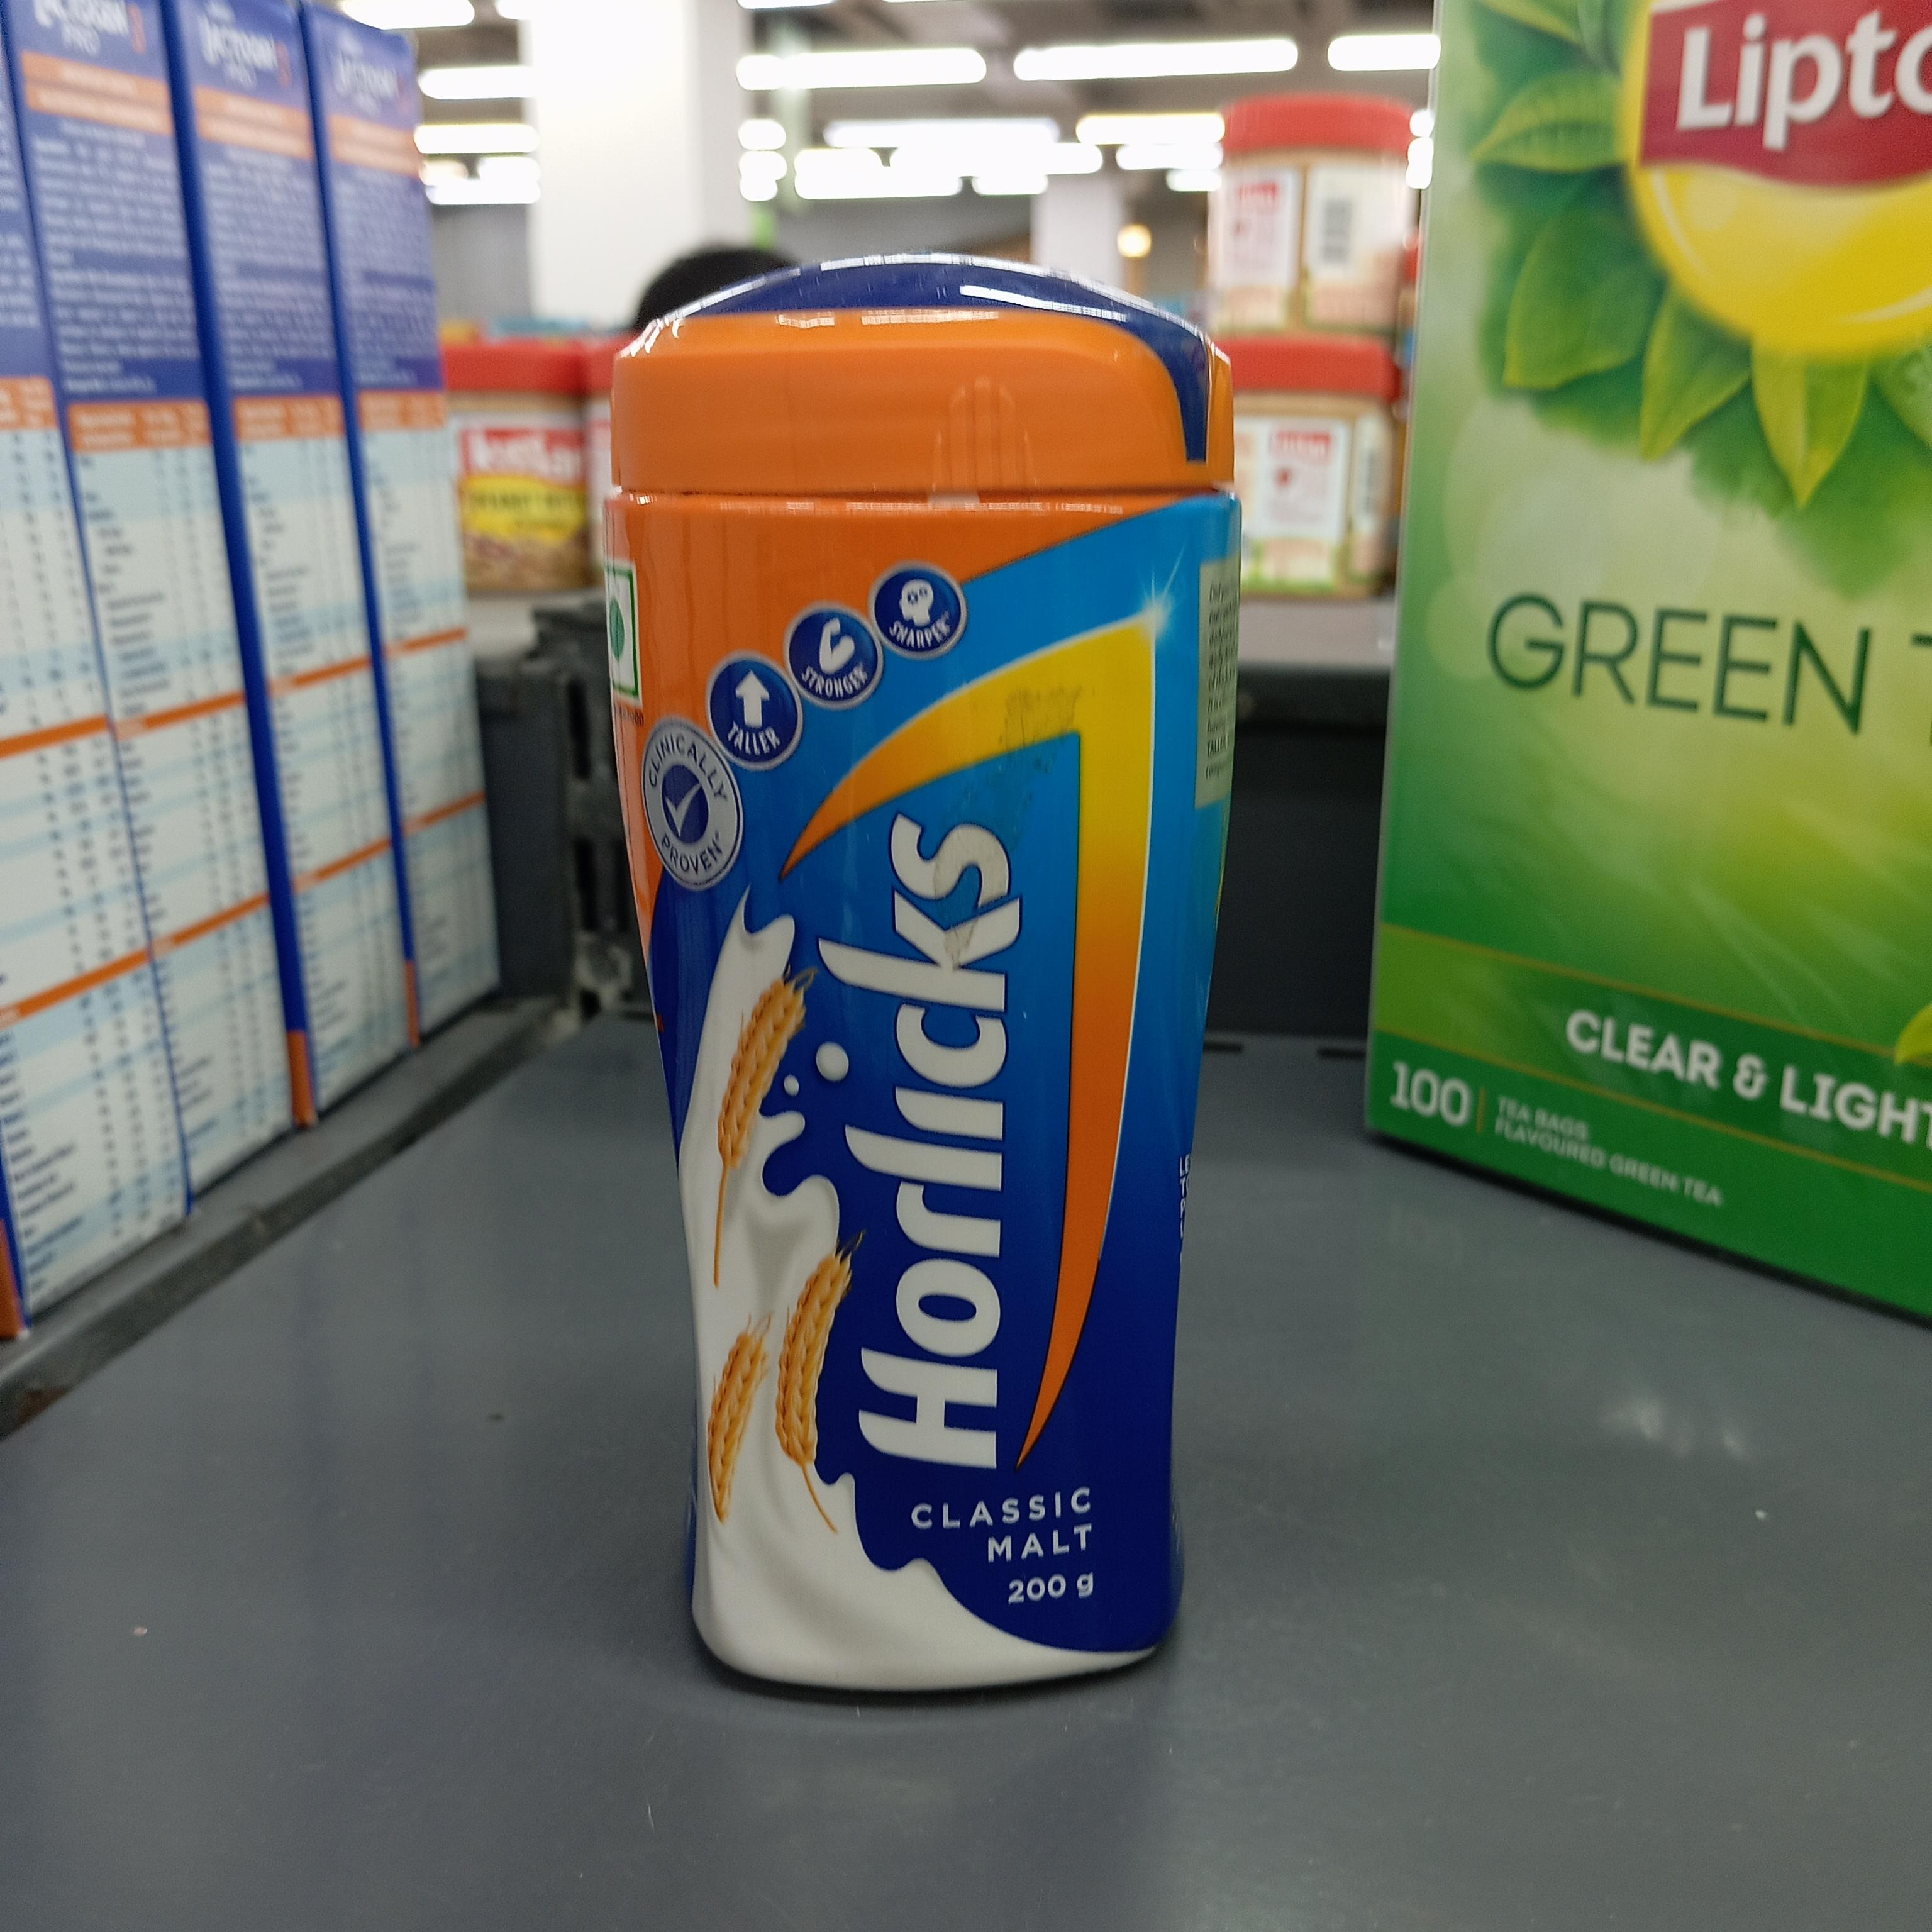HORLICK_CLASSIC_MALT_200_G_JAR: (603, 241, 1192, 1681)
